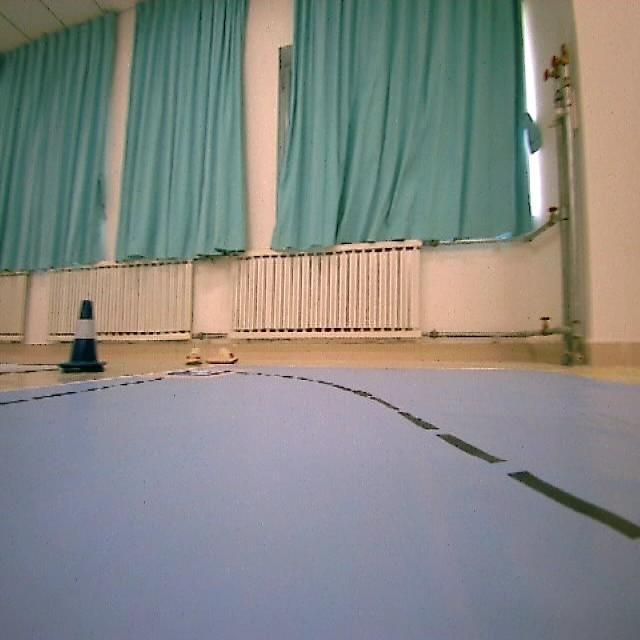obstacle: (57, 300, 111, 378)
